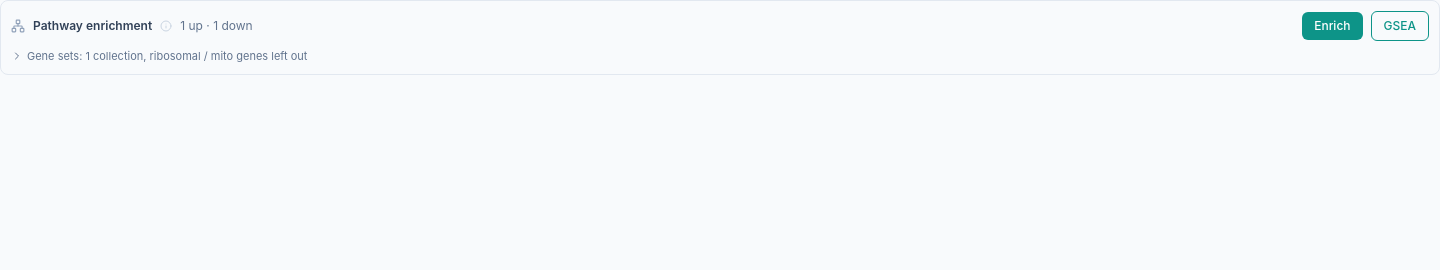
Test: DEEnrichment › runs GSEA on every tested gene with its statistic and shows each direction
Click the button "GSEA" at (1400, 26), box [1370, 11, 1429, 41]
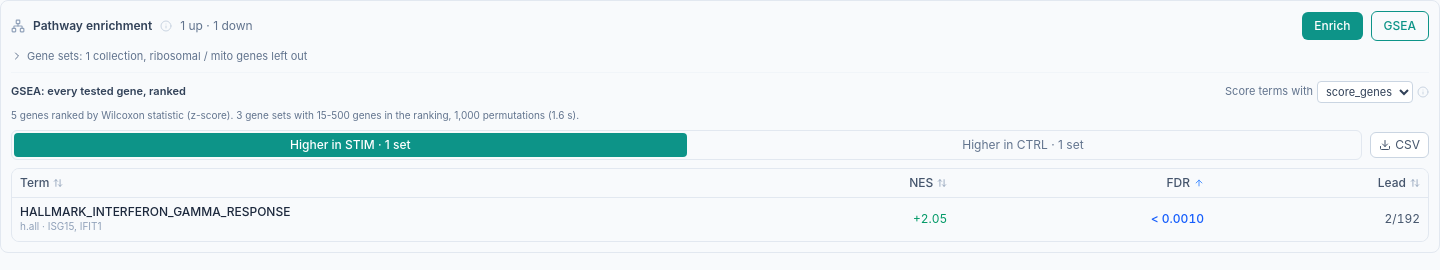
Check: the text "HALLMARK_INTERFERON_GAMMA_RESPONSE" shows "+2.05", box [12, 198, 1428, 240]
Check: the text "HALLMARK_INTERFERON_GAMMA_RESPONSE" shows "< 0.0010", box [1151, 211, 1204, 226]
Check: the text "HALLMARK_INTERFERON_GAMMA_RESPONSE" shows "2/192", box [12, 198, 1428, 240]
Click the button "Higher in CTRL · 1 set" at (1023, 145), box [687, 133, 1359, 157]
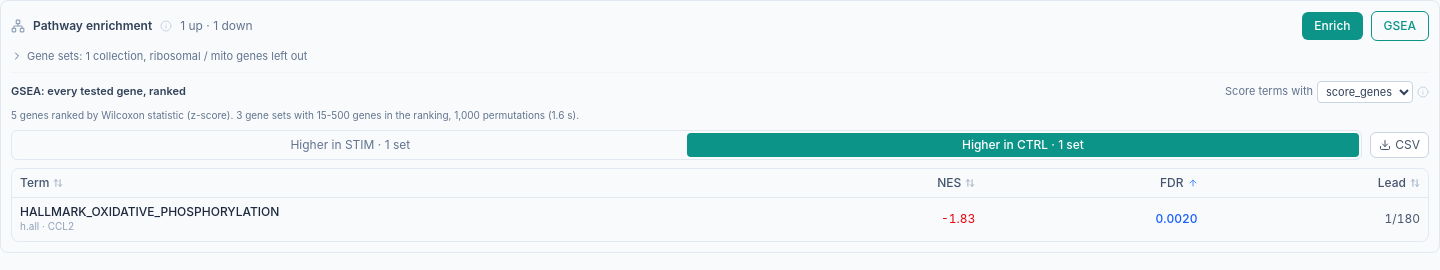
Check: the text "HALLMARK_OXIDATIVE_PHOSPHORYLATION" is shown, box [20, 204, 279, 219]
Check: the text "HALLMARK_INTERFERON_GAMMA_RESPONSE" is gone
